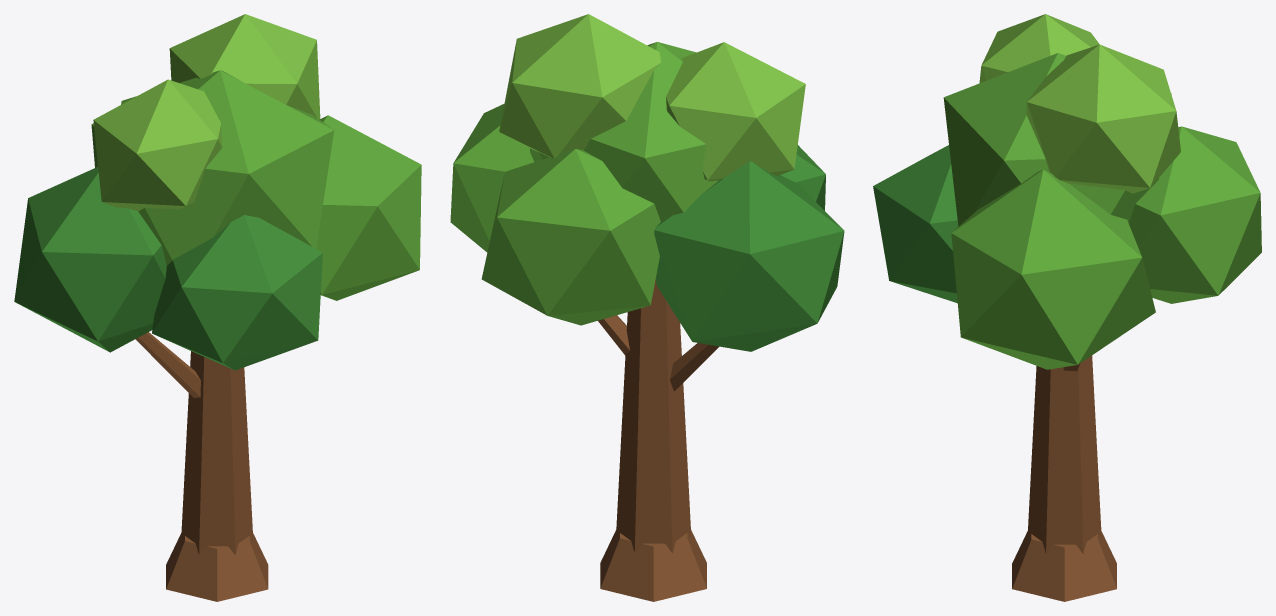
The model's file is broad_tree.glb.
3 renders of one model, left to right at view 1: azimuth 30°, elevation 25°; view 2: azimuth 150°, elevation 25°; view 3: azimuth 270°, elevation 25°, orthographic. The views are drawn at different scales.
Visible parts, largest first — view 1: part_crown, broad_tree; view 2: part_crown, broad_tree; view 3: part_crown, broad_tree.
Part boxes in pixels (box(x1,y1,x2,y2)): part_crown: box(14, 14, 421, 370); broad_tree: box(135, 332, 268, 601); part_crown: box(450, 14, 844, 351); broad_tree: box(598, 278, 718, 601); part_crown: box(873, 14, 1261, 369); broad_tree: box(1012, 355, 1116, 601).
Size of the model in its own units: 2.46 by 3.44 by 2.19.
